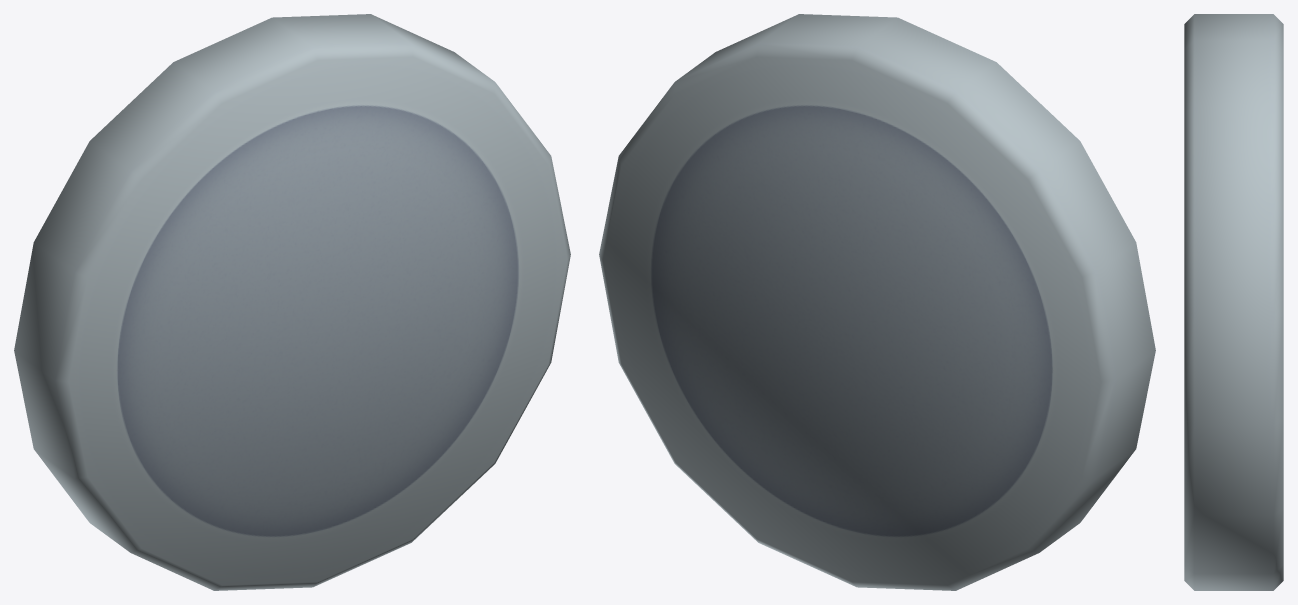
File: Coin_Silver.FBX
3 views of the same model, side by side, from view 1: azimuth 30°, elevation 25°; view 2: azimuth 150°, elevation 25°; view 3: azimuth 270°, elevation 25° (orthographic). The views are drawn at different scales.
Parts seen in each view (by area): view 1: Coin_Silver; view 2: Coin_Silver; view 3: Coin_Silver.
Boxes of the visible parts, x1,y1,x2,y2 form: Coin_Silver: (14,14,570,590); Coin_Silver: (599,14,1155,590); Coin_Silver: (1184,14,1283,590).
Size of the model in its own units: 70 by 70 by 12.
Materials: 1 (1 with a texture image).
